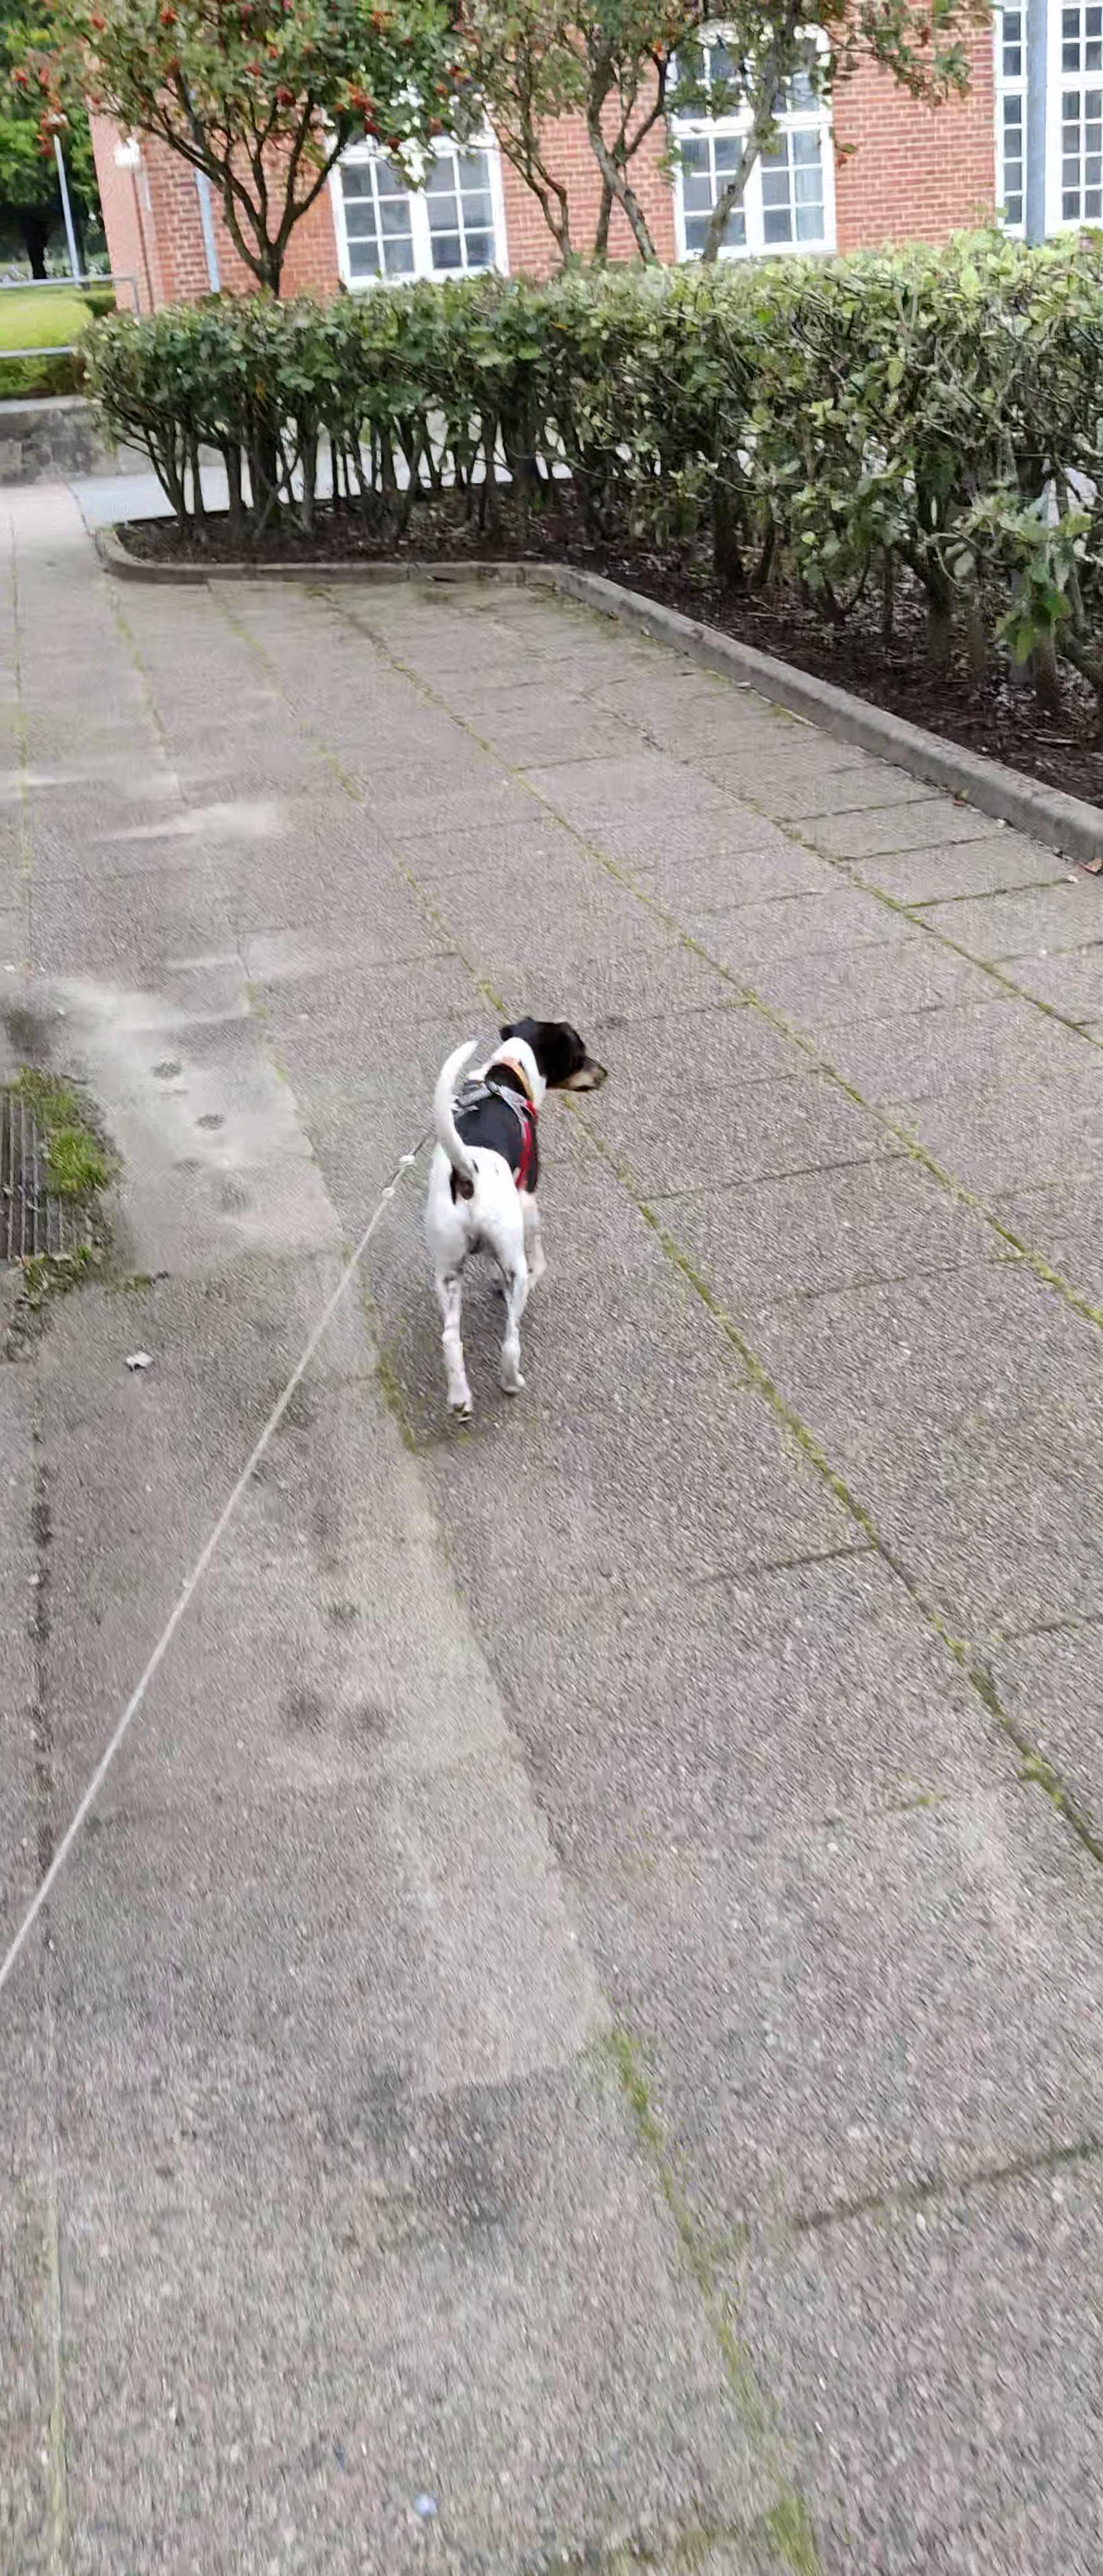Dog: (421, 1014, 615, 1418)
